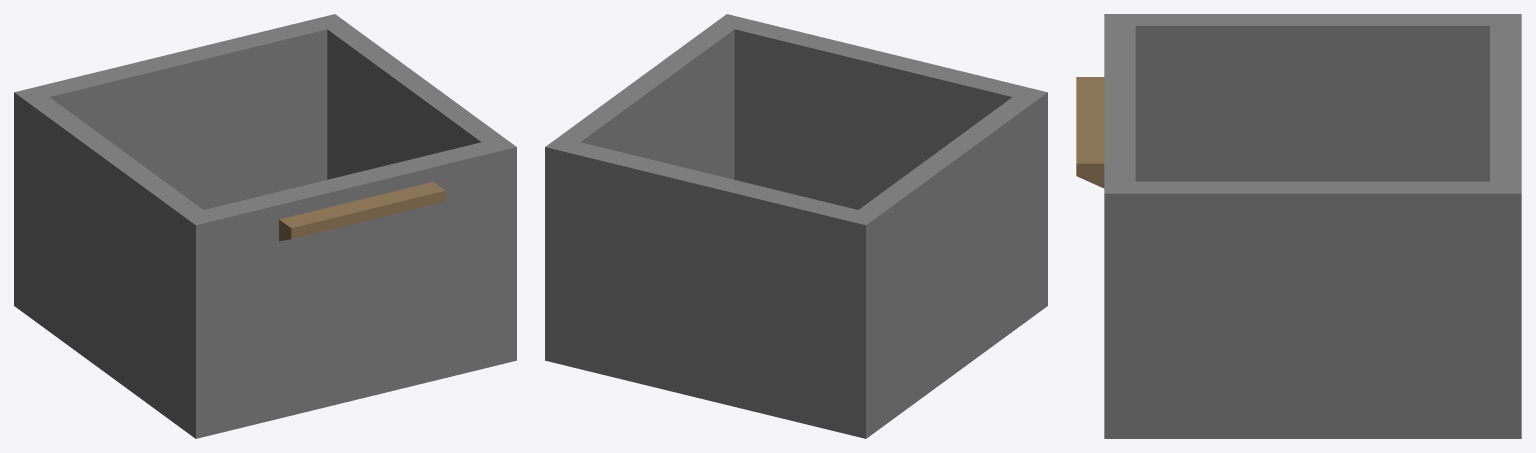
Rendered from FileCabinet_Standard_Drawer.fbx.
The picture shows the model from 3 angles, left to right: view 1: azimuth 30°, elevation 25°; view 2: azimuth 150°, elevation 25°; view 3: azimuth 270°, elevation 25°; orthographic projection. The views are drawn at different scales.
Visible parts, largest first — view 1: FileCabinet_Standard_Drawer; view 2: FileCabinet_Standard_Drawer; view 3: FileCabinet_Standard_Drawer.
Part boxes in pixels (x1,y1,x2,y2): FileCabinet_Standard_Drawer: (14,14,516,438); FileCabinet_Standard_Drawer: (545,14,1047,438); FileCabinet_Standard_Drawer: (1076,14,1521,438).
Size of the model in its own units: 51.01 by 32.44 by 53.36.
